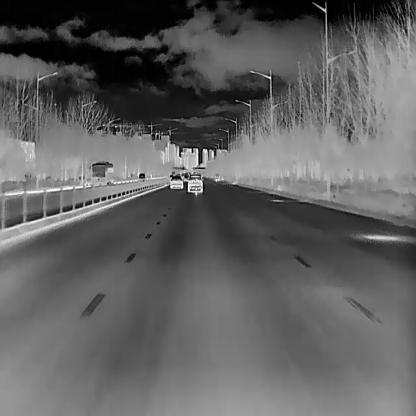car: (88, 159, 112, 186), (185, 174, 202, 192), (170, 174, 183, 188), (138, 171, 145, 182), (213, 172, 220, 182)
